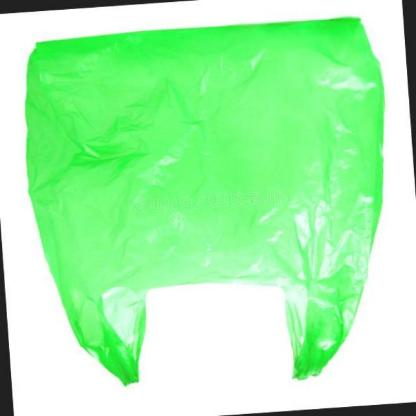Plastic Bag: (24, 15, 386, 387)
